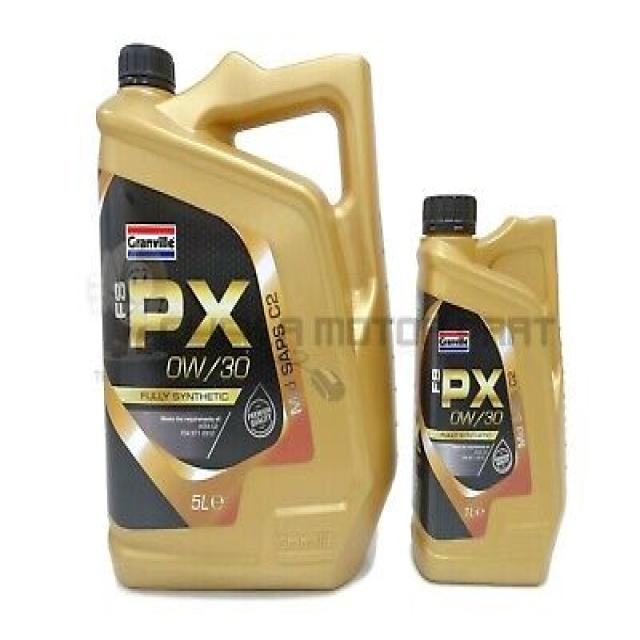motor_oil: (97, 35, 402, 590), (415, 190, 574, 590)
